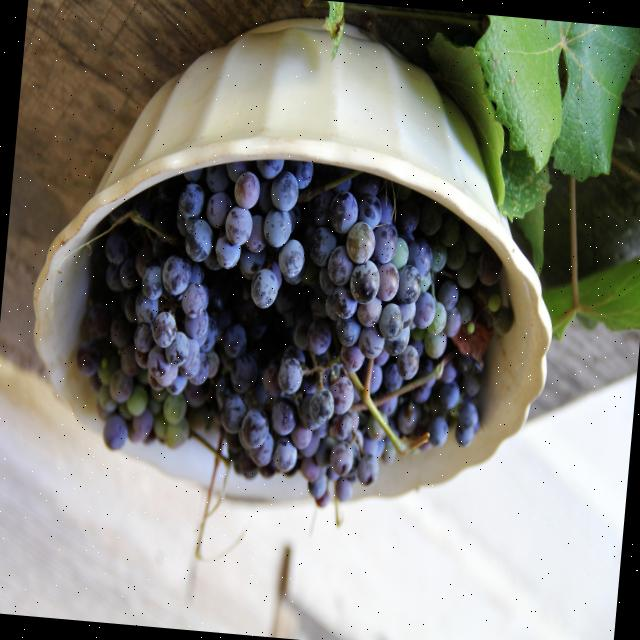grape: (75, 158, 513, 505)
